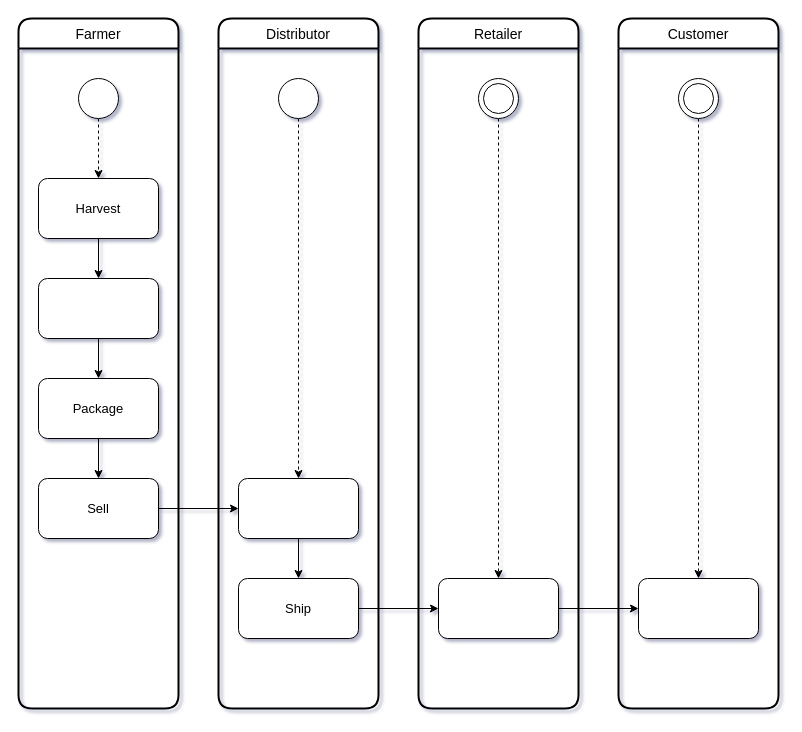
The diagram is 802 pixels wide and 732 high, and some of its shapes have lost their labels. Each missing label, with the centre of its shape:
"Buy" belongs at pixel 298 508.
"Buy (Purchase Item)" belongs at pixel 698 608.
"Process" belongs at pixel 98 308.
"Receive" belongs at pixel 498 608.
